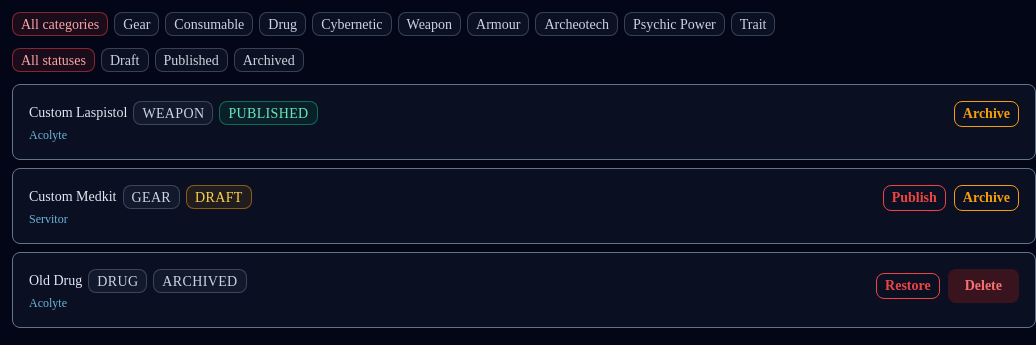
Test case: CustomItemLibraryAdmin › filtering by category hides non-matching items
Click the button "Gear": (137, 24) [114,12,159,36]
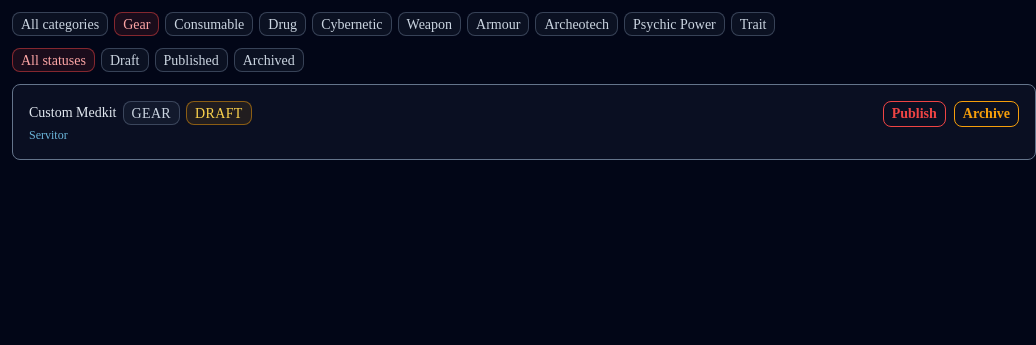
Expected: the text "Custom Medkit" is shown, [29,103,116,123]
Now the text "Custom Laspistol" is gone
Now the text "Old Drug" is gone
